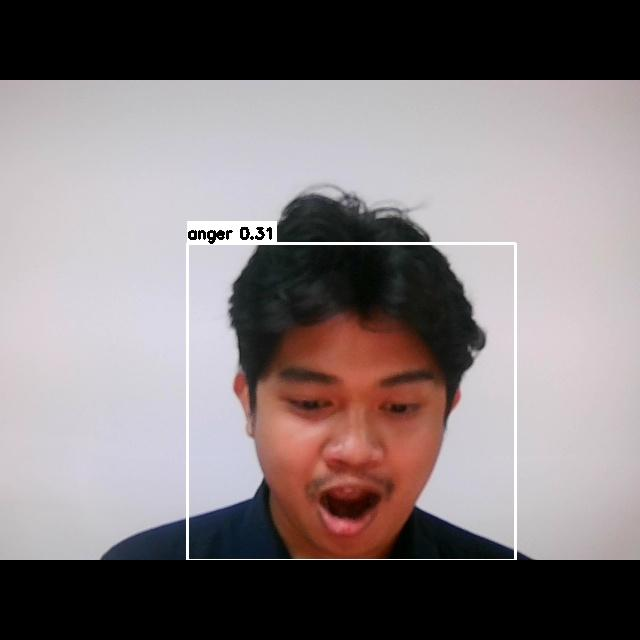Surprised: (260, 336, 459, 544)
